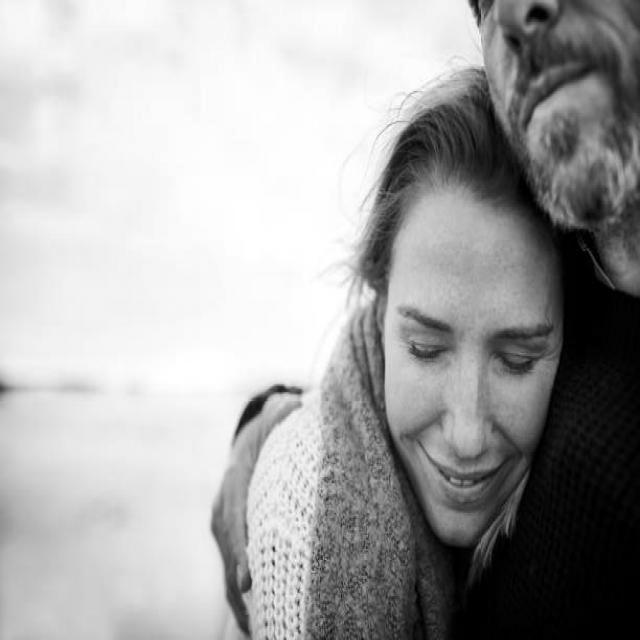real: (379, 122, 569, 545), (400, 294, 556, 386)
